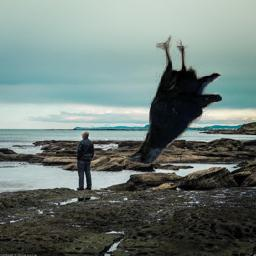Crow: (126, 35, 223, 167)
